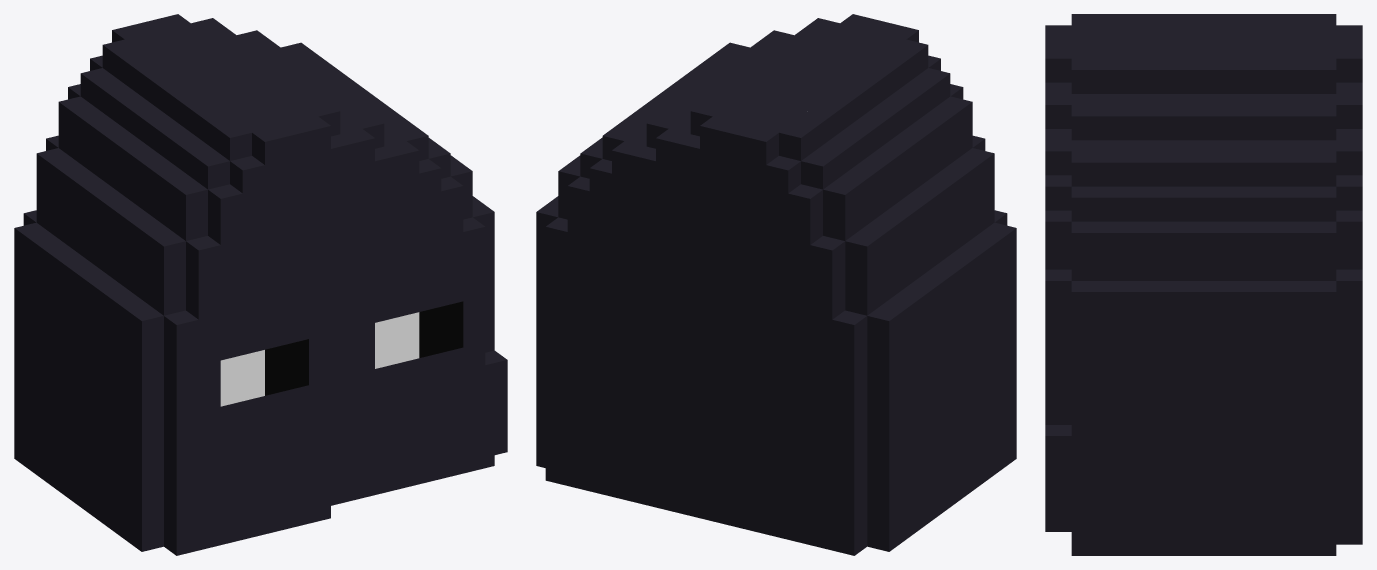
File: raven.glb
3 views of the same model, side by side, from view 1: azimuth 30°, elevation 25°; view 2: azimuth 150°, elevation 25°; view 3: azimuth 270°, elevation 25° (orthographic). The views are drawn at different scales.
Parts seen in each view (by area): view 1: base, eyes; view 2: base; view 3: base.
Part boxes in pixels (x1=…): base: x1=14, y1=14, x2=507, y2=555; eyes: x1=220, y1=301, x2=463, y2=406; base: x1=536, y1=14, x2=1016, y2=555; base: x1=1045, y1=14, x2=1362, y2=555.
Size of the model in its own units: 16 by 17 by 12.
5 materials, 5 textured.
